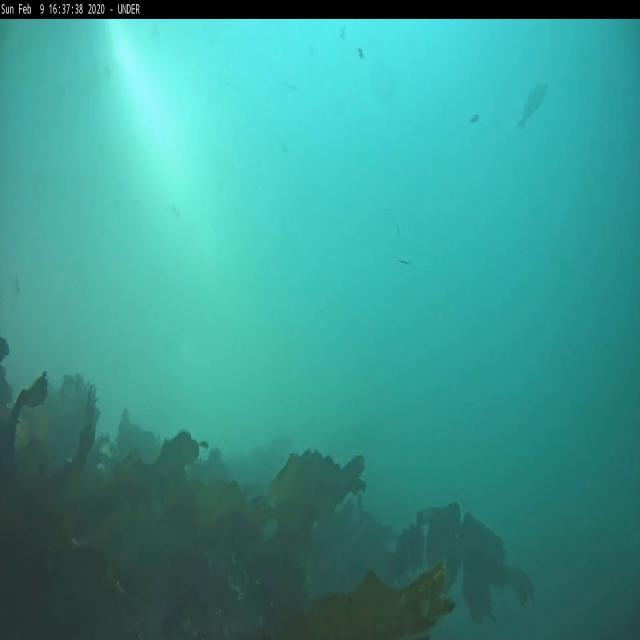fish: (517, 81, 548, 129)
